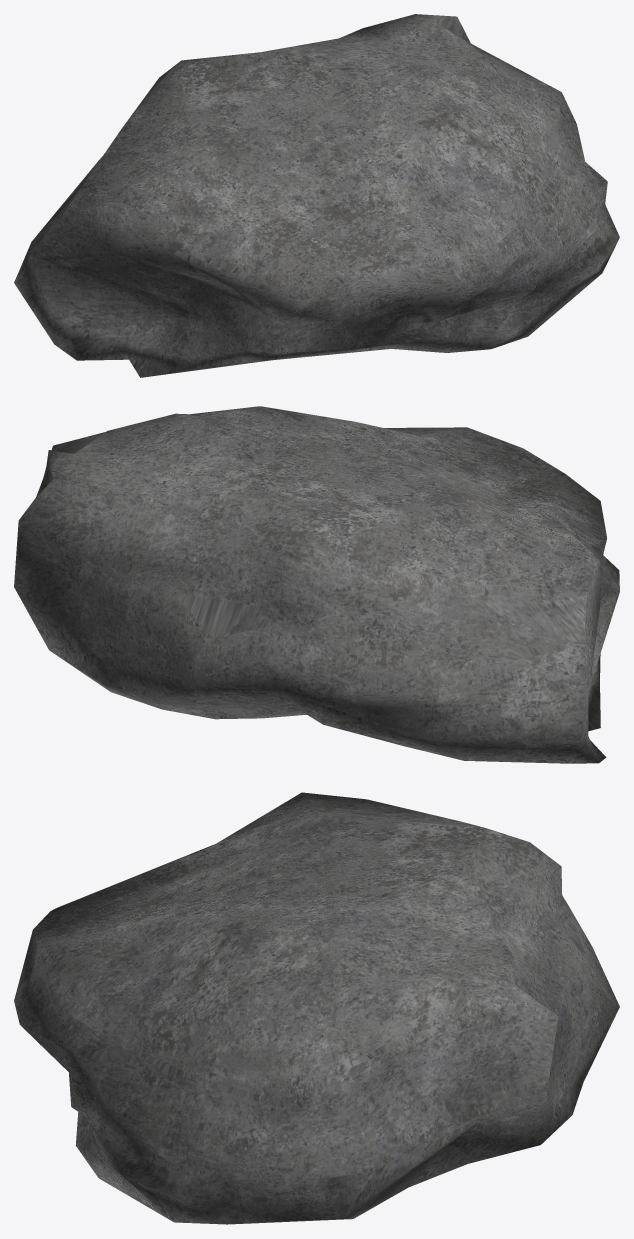
The model's file is SM_Rock_01_LOD_02.FBX.
3 renders of one model, top to bottom at view 1: azimuth 30°, elevation 25°; view 2: azimuth 150°, elevation 25°; view 3: azimuth 270°, elevation 25°, orthographic. The views are drawn at different scales.
Parts seen in each view (by area): view 1: SM_Rock_01_LOD_02; view 2: SM_Rock_01_LOD_02; view 3: SM_Rock_01_LOD_02.
Part boxes in pixels (box(x1,y1,x2,y2)): SM_Rock_01_LOD_02: box(14, 14, 619, 377); SM_Rock_01_LOD_02: box(14, 406, 619, 763); SM_Rock_01_LOD_02: box(14, 792, 619, 1224).
Bounding box in the file's own units: 2.44 × 0.9895 × 2.01.
1 material, 1 textured.
